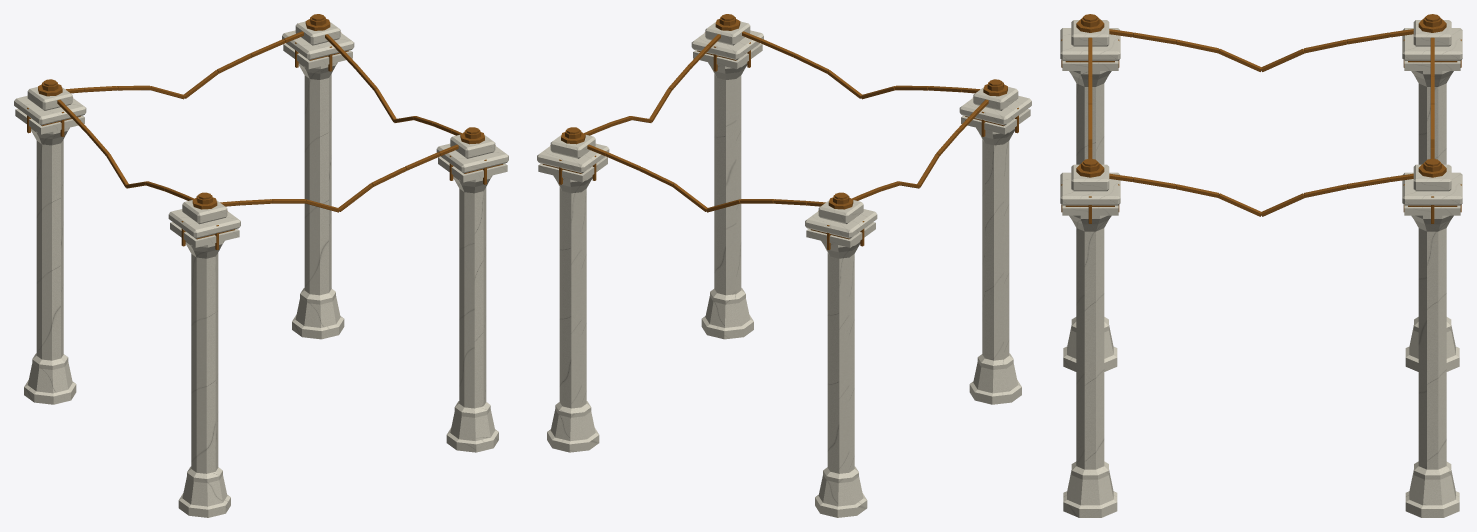
The picture shows the model from 3 angles, left to right: view 1: azimuth 30°, elevation 25°; view 2: azimuth 150°, elevation 25°; view 3: azimuth 270°, elevation 25°; orthographic projection. The views are drawn at different scales.
Parts seen in each view (by area): view 1: Layered octagonal pier shaft and spreading neck.005, Layered octagonal pier shaft and spreading neck.004, Layered octagonal pier shaft and spreading neck.006, Layered octagonal pier shaft and spreading neck.007, Broad upper capital bearing.004, Broad upper capital bearing.006, Broad upper capital bearing.005, Broad upper capital bearing.007, Socket marble pedestal.004, Socket marble pedestal.006, Socket marble pedestal.005, Socket marble pedestal.007 (+3 smaller); view 2: Layered octagonal pier shaft and spreading neck.004, Layered octagonal pier shaft and spreading neck.005, Layered octagonal pier shaft and spreading neck.007, Layered octagonal pier shaft and spreading neck.006, Broad upper capital bearing.005, Broad upper capital bearing.007, Broad upper capital bearing.004, Broad upper capital bearing.006, Socket marble pedestal.005, Socket marble pedestal.007, Socket marble pedestal.004, Socket marble pedestal.006 (+3 smaller); view 3: Layered octagonal pier shaft and spreading neck.006, Layered octagonal pier shaft and spreading neck.007, Layered octagonal pier shaft and spreading neck.004, Layered octagonal pier shaft and spreading neck.005, Broad upper capital bearing.006, Broad upper capital bearing.007, Broad upper capital bearing.004, Broad upper capital bearing.005, Socket marble pedestal.006, Socket marble pedestal.007, Socket marble pedestal.004, Socket marble pedestal.005 (+4 smaller).
Part boxes in pixels (x1=…): Layered octagonal pier shaft and spreading neck.005: x1=24, y1=127, x2=76, y2=404; Layered octagonal pier shaft and spreading neck.004: x1=178, y1=241, x2=230, y2=517; Layered octagonal pier shaft and spreading neck.006: x1=446, y1=175, x2=498, y2=452; Layered octagonal pier shaft and spreading neck.007: x1=292, y1=62, x2=344, y2=339; Broad upper capital bearing.004: x1=168, y1=209, x2=240, y2=238; Broad upper capital bearing.006: x1=436, y1=143, x2=508, y2=173; Broad upper capital bearing.005: x1=14, y1=95, x2=86, y2=125; Broad upper capital bearing.007: x1=282, y1=30, x2=354, y2=59; Socket marble pedestal.004: x1=182, y1=200, x2=227, y2=224; Socket marble pedestal.006: x1=450, y1=135, x2=495, y2=158; Socket marble pedestal.005: x1=27, y1=87, x2=72, y2=110; Socket marble pedestal.007: x1=295, y1=21, x2=340, y2=45; Layered octagonal pier shaft and spreading neck.004: x1=969, y1=127, x2=1021, y2=404; Layered octagonal pier shaft and spreading neck.005: x1=815, y1=241, x2=867, y2=517; Layered octagonal pier shaft and spreading neck.007: x1=547, y1=175, x2=599, y2=452; Layered octagonal pier shaft and spreading neck.006: x1=701, y1=62, x2=753, y2=339; Broad upper capital bearing.005: x1=805, y1=209, x2=877, y2=238; Broad upper capital bearing.007: x1=537, y1=143, x2=609, y2=173; Broad upper capital bearing.004: x1=959, y1=95, x2=1031, y2=125; Broad upper capital bearing.006: x1=691, y1=30, x2=763, y2=59; Socket marble pedestal.005: x1=818, y1=200, x2=863, y2=224; Socket marble pedestal.007: x1=550, y1=135, x2=595, y2=158; Socket marble pedestal.004: x1=973, y1=87, x2=1018, y2=110; Socket marble pedestal.006: x1=705, y1=21, x2=750, y2=45; Layered octagonal pier shaft and spreading neck.006: x1=1063, y1=215, x2=1117, y2=517; Layered octagonal pier shaft and spreading neck.007: x1=1405, y1=215, x2=1459, y2=517; Layered octagonal pier shaft and spreading neck.004: x1=1063, y1=71, x2=1117, y2=371; Layered octagonal pier shaft and spreading neck.005: x1=1405, y1=71, x2=1459, y2=371; Broad upper capital bearing.006: x1=1060, y1=172, x2=1120, y2=205; Broad upper capital bearing.007: x1=1402, y1=172, x2=1462, y2=205; Broad upper capital bearing.004: x1=1060, y1=28, x2=1120, y2=60; Broad upper capital bearing.005: x1=1402, y1=28, x2=1462, y2=60; Socket marble pedestal.006: x1=1071, y1=164, x2=1109, y2=191; Socket marble pedestal.007: x1=1413, y1=164, x2=1451, y2=191; Socket marble pedestal.004: x1=1071, y1=20, x2=1109, y2=46; Socket marble pedestal.005: x1=1413, y1=20, x2=1451, y2=46.
Size of the model in its own units: 4 by 3.78 by 4.
3 materials, 3 textured.
